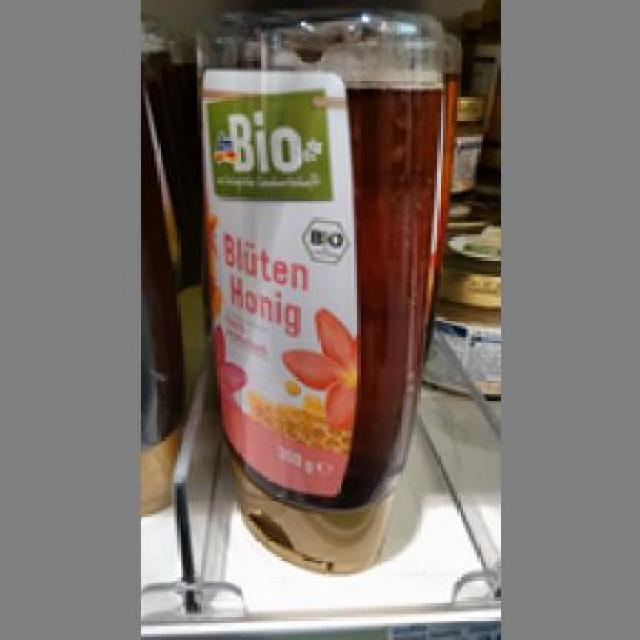Honey: (183, 9, 446, 578)
